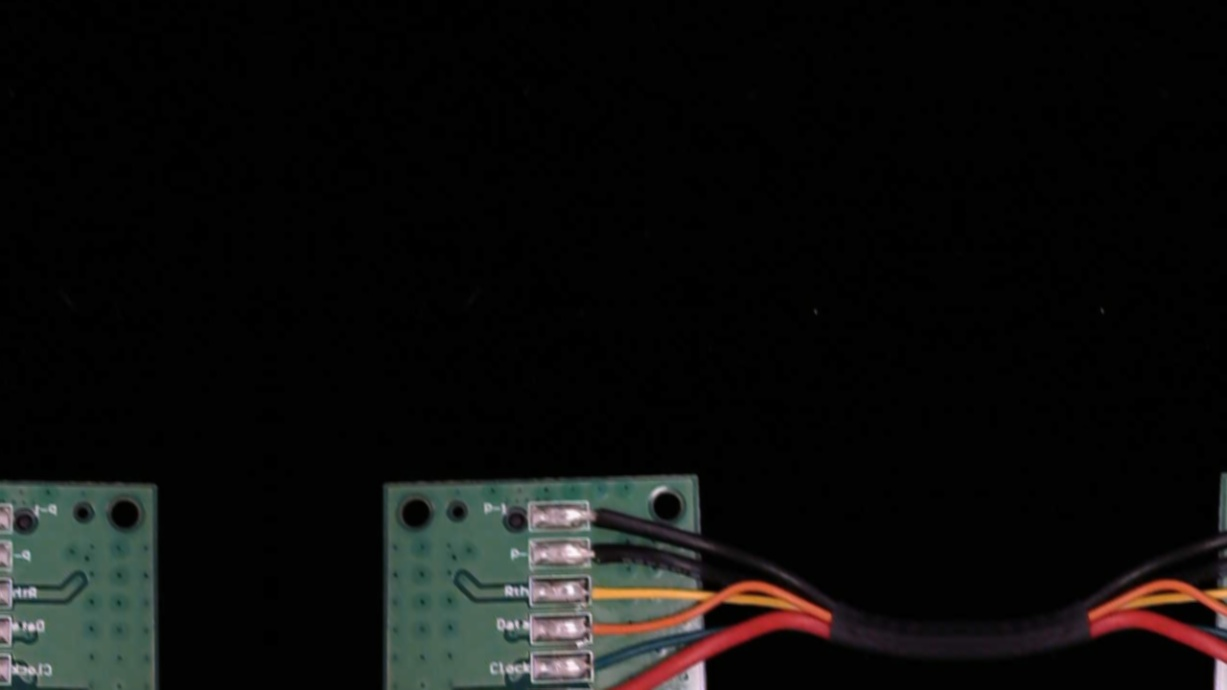Black: (569, 536, 639, 568)
Black1: (568, 496, 632, 528)
Green: (570, 649, 638, 682)
Orange: (570, 612, 639, 643)
Red: (571, 688, 639, 690)
Yellow: (570, 573, 641, 606)
